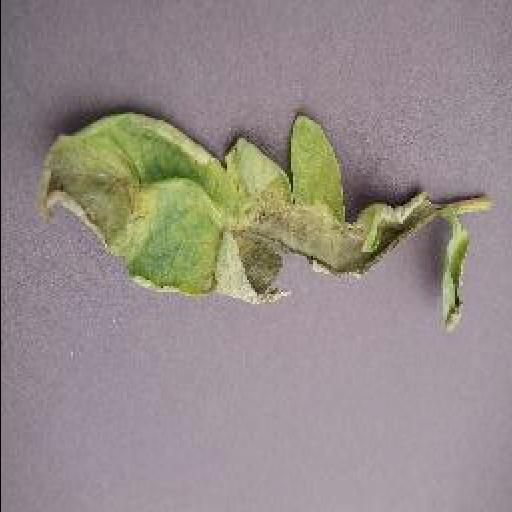disease_tomato: (42, 105, 436, 303), (430, 230, 480, 336)
